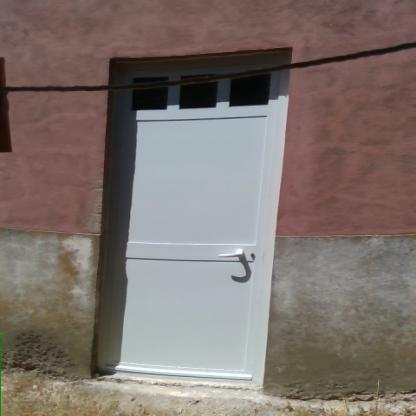closed: (93, 50, 293, 400)
